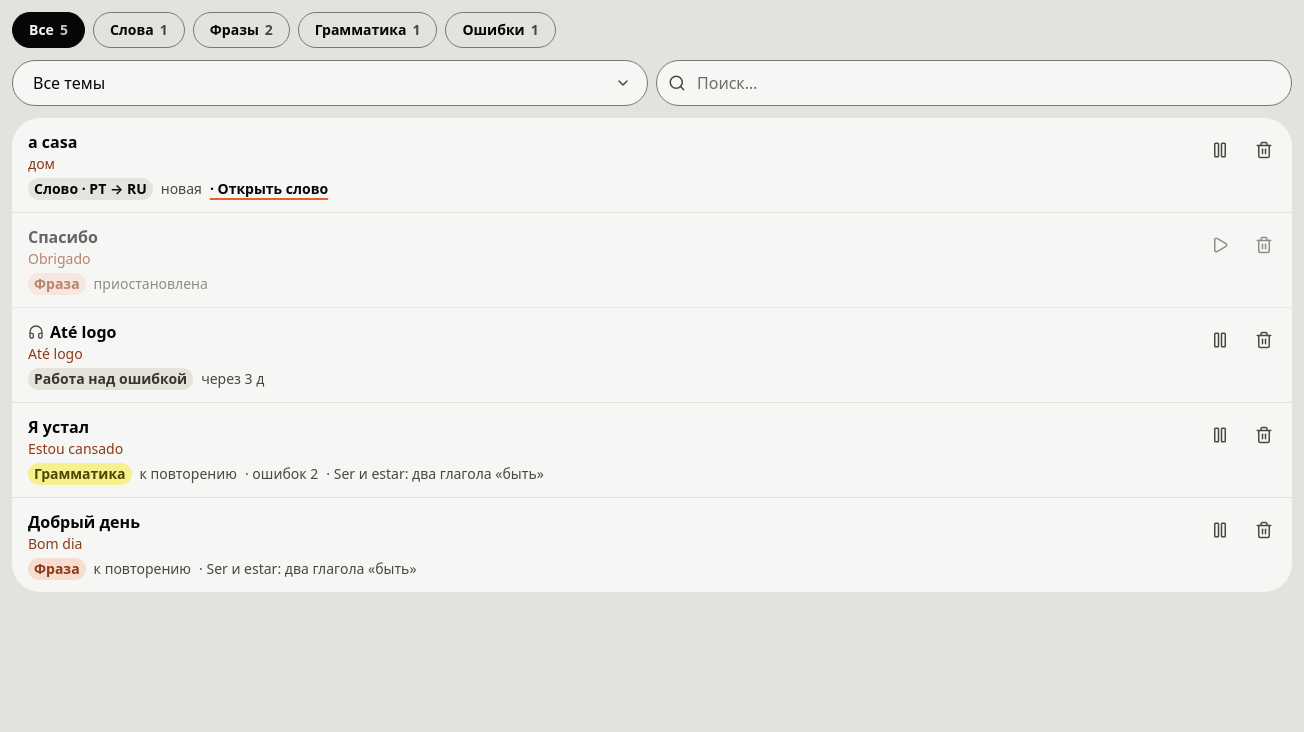
CardList · filters › kind chips show counts and filter; «Все» resets
This screenshot has width=1304, height=732.
Expected: the button "Все 5" is shown, [12,12,85,48]
Expected: the button "Слова 1" is shown, [93,12,185,48]
Click the button "Фразы 2" at [241, 30], box [193,12,290,48]
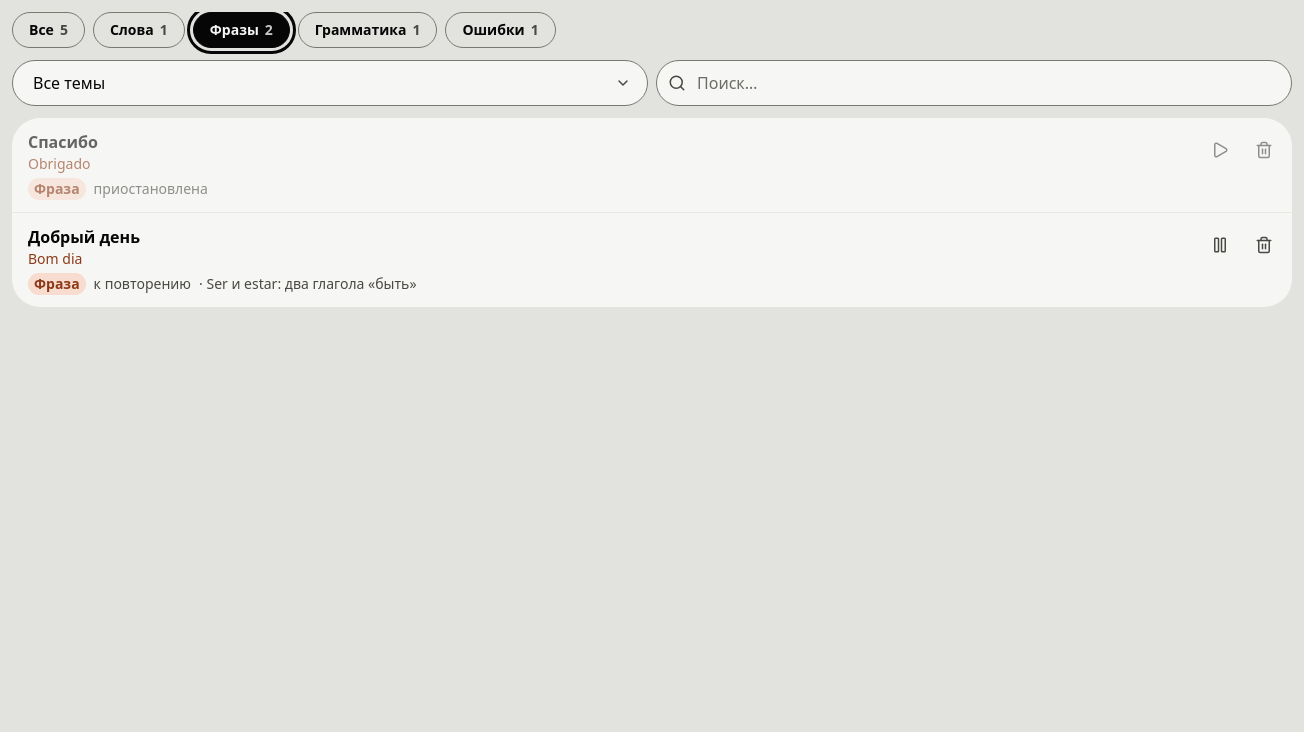
Now the button "Фразы 2" is pressed, box [193,12,290,48]
Click the button "Все 5" at [48, 30], box [12,12,85,48]
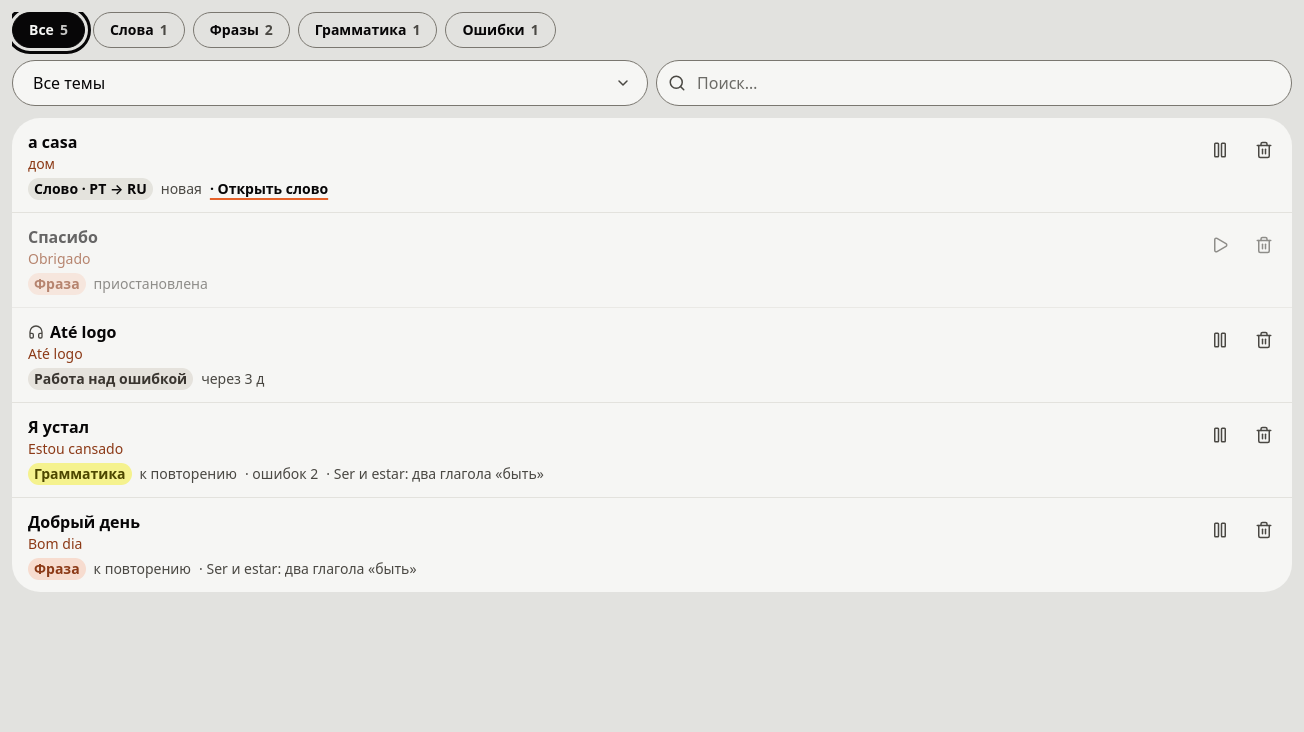
Now the number of list items is 5, box [12,118,1292,213]; [12,213,1292,308]; [12,308,1292,403]; [12,403,1292,498]; [12,498,1292,592]
